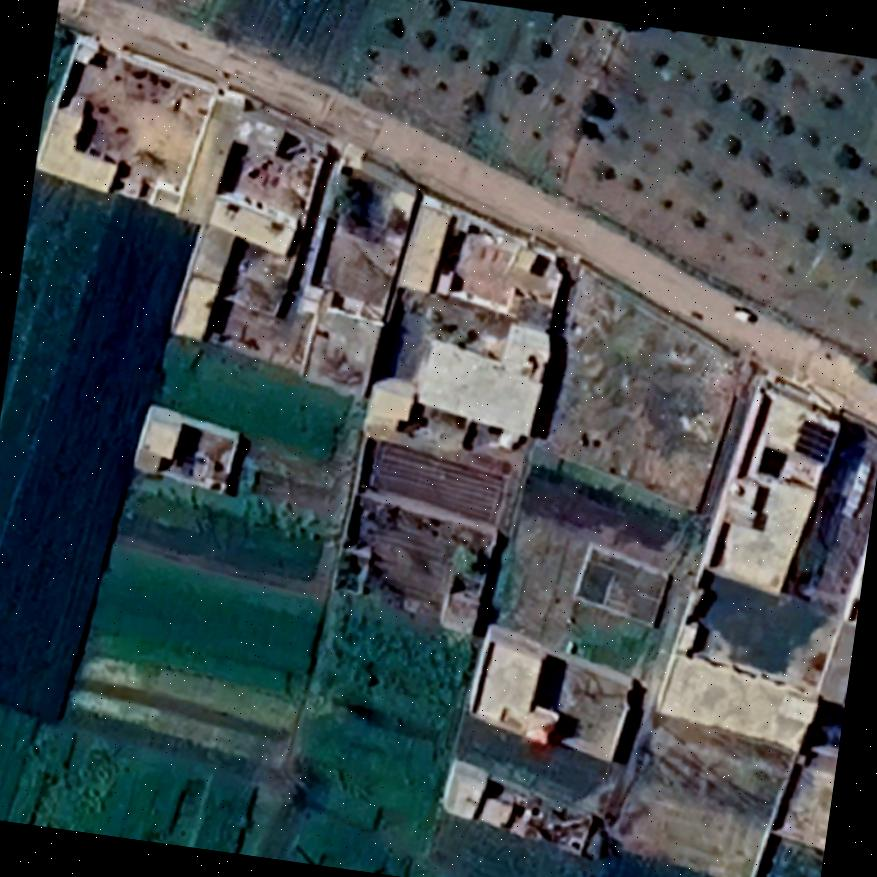Solarpanel: (788, 412, 842, 468)
